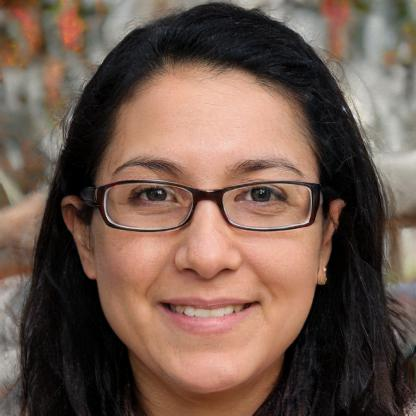glasses: (91, 176, 321, 238)
